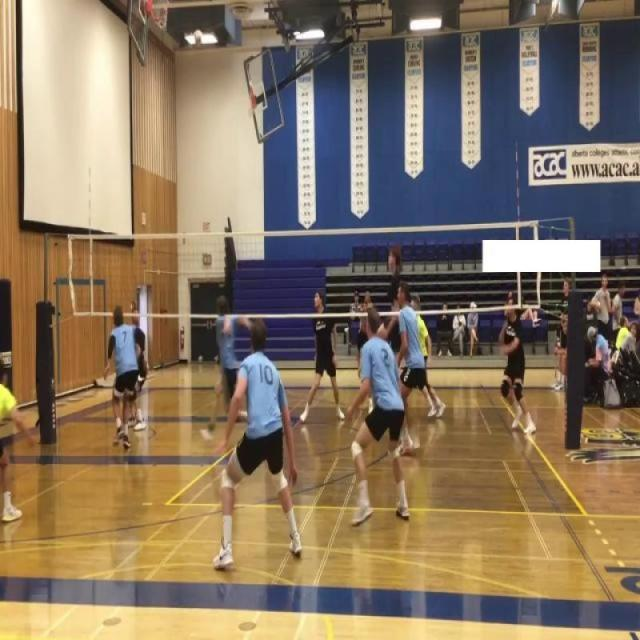volleyball: (193, 28, 203, 48), (198, 355, 204, 364), (214, 356, 219, 364)
